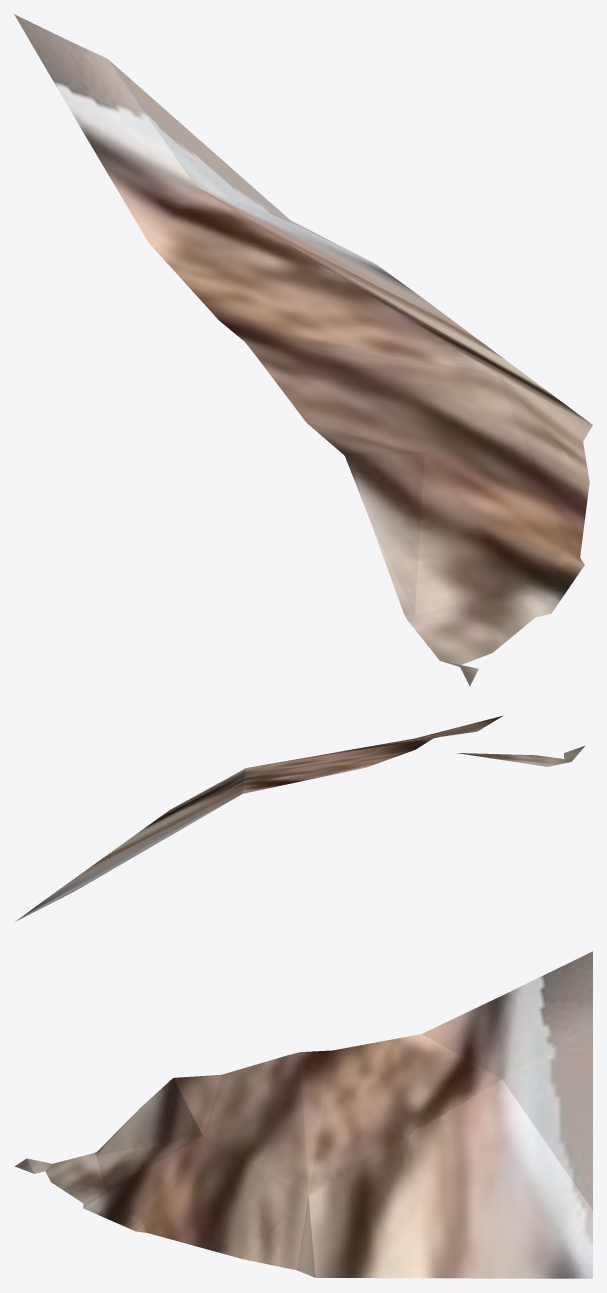
3 views of the same model, one above another, from view 1: azimuth 30°, elevation 25°; view 2: azimuth 150°, elevation 25°; view 3: azimuth 270°, elevation 25° (orthographic). The views are drawn at different scales.
Size of the model in its own units: 0.3802 by 0.3393 by 0.8279.
Materials: 1 (1 with a texture image).
